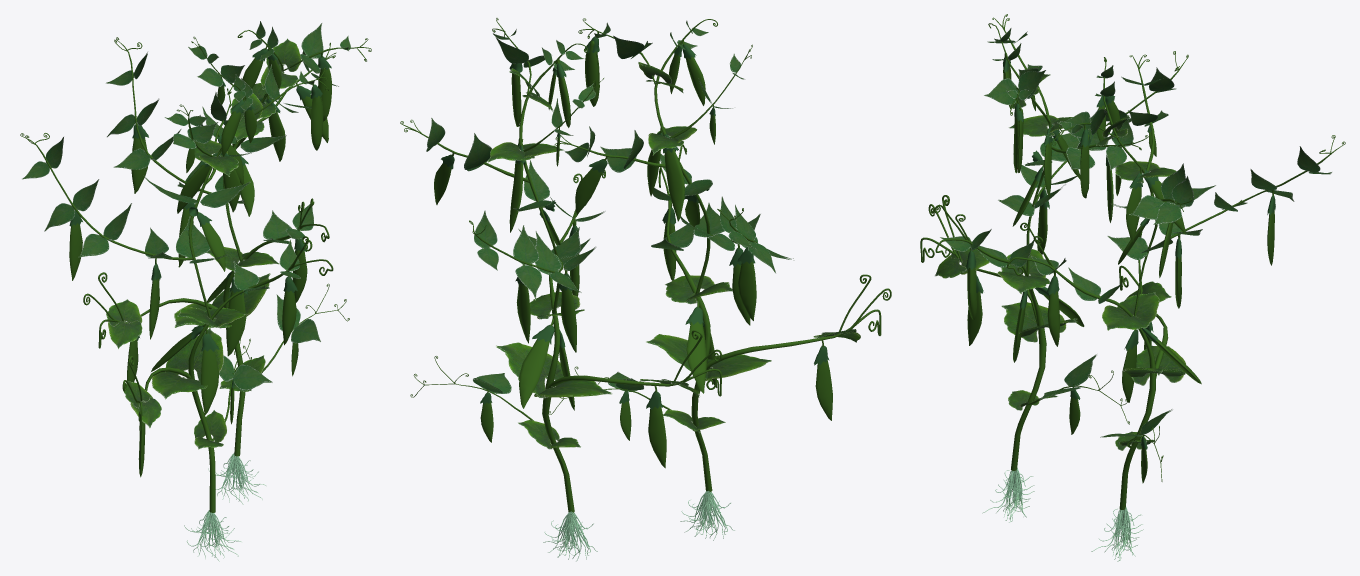
File: BeanFinal.fbx
3 renders of one model, left to right at view 1: azimuth 30°, elevation 25°; view 2: azimuth 150°, elevation 25°; view 3: azimuth 270°, elevation 25°, orthographic. The views are drawn at different scales.
Visible parts, largest first — view 1: Bean_6, Root_5_2, Root_5_3, Seed_Part_2; view 2: Bean_6, Root_5_3, Root_5_2; view 3: Bean_6, Root_5_2, Root_5_3.
Part boxes in pixels (box(x1,y1,x2,y2)): Bean_6: box(20, 21, 371, 512); Root_5_2: box(184, 510, 241, 561); Root_5_3: box(208, 453, 265, 504); Seed_Part_2: box(311, 96, 323, 150); Bean_6: box(400, 18, 891, 512); Root_5_3: box(543, 511, 597, 561); Root_5_2: box(680, 491, 734, 540); Bean_6: box(920, 14, 1345, 509); Root_5_2: box(982, 468, 1034, 522); Root_5_3: box(1091, 507, 1143, 561).
Bounding box in the file's own units: 22.23 × 30.45 × 23.16.
